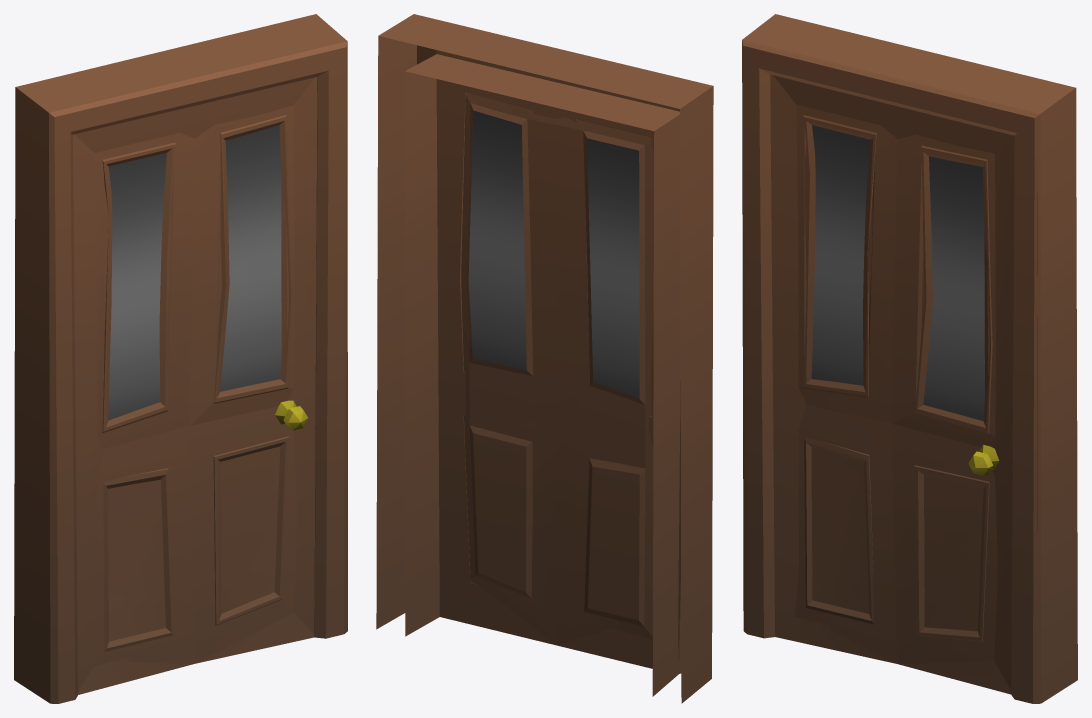
The model's file is Door 02.fbx.
3 renders of one model, left to right at view 1: azimuth 30°, elevation 25°; view 2: azimuth 150°, elevation 25°; view 3: azimuth 330°, elevation 25°, orthographic.
Parts seen in each view (by area): view 1: Door 02 high, Door 02 low, Door 02; view 2: Door 02 high, Door 02 low, Door 02; view 3: Door 02 high, Door 02 low, Door 02.
Part boxes in pixels (x1=…): Door 02 high: x1=14, y1=14, x2=347, y2=703; Door 02 low: x1=73, y1=76, x2=346, y2=694; Door 02: x1=94, y1=105, x2=297, y2=666; Door 02 high: x1=378, y1=14, x2=713, y2=703; Door 02 low: x1=376, y1=36, x2=653, y2=645; Door 02: x1=469, y1=103, x2=681, y2=673; Door 02 high: x1=742, y1=14, x2=1077, y2=703; Door 02 low: x1=770, y1=74, x2=1037, y2=694; Door 02: x1=794, y1=104, x2=997, y2=663.
Size of the model in its own units: 1.3 by 2.42 by 0.3167.
Materials: 1 (1 with a texture image).
